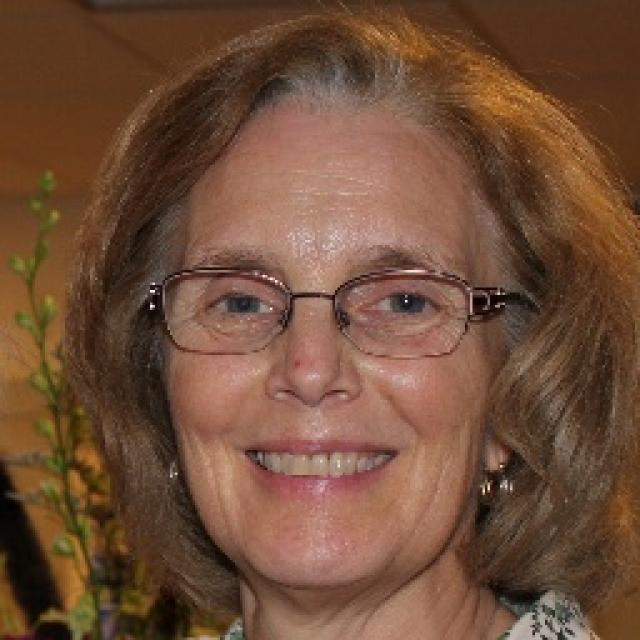earlobe: (479, 434, 515, 475)
eye: (203, 290, 278, 325), (371, 292, 447, 324)
nose: (268, 390, 359, 428)
